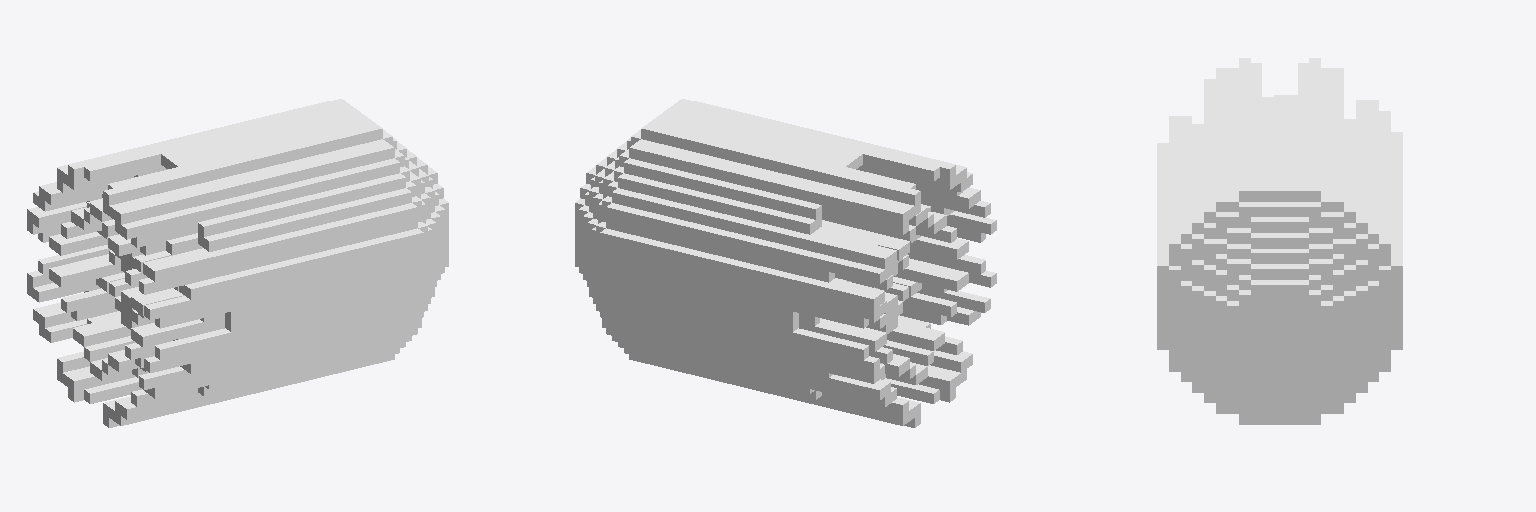
The model's file is Fuego.obj.
3 views of the same model, side by side, from view 1: azimuth 30°, elevation 25°; view 2: azimuth 150°, elevation 25°; view 3: azimuth 270°, elevation 25° (orthographic).
Visible parts, largest first — view 1: object 1; view 2: object 1; view 3: object 1.
Boxes of the visible parts, <box> form: object 1: <box>27,99,448,427</box>; object 1: <box>575,99,996,427</box>; object 1: <box>1157,58,1402,424</box>.
Size of the model in its own units: 3.3 by 2.2 by 2.1.